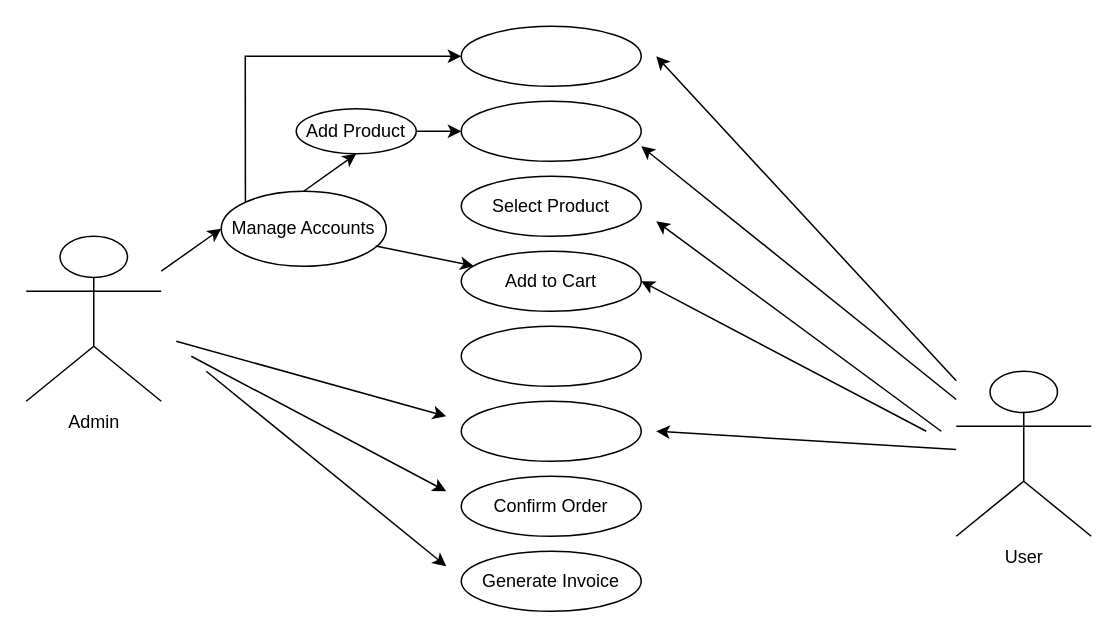
Image size: 1118x638. Some labels were removed from this diagram. Each missing label, with the centre of its shape:
Browser Product: point (550, 130)
Login / Logout: point (550, 55)
Process Payment: point (550, 430)
View Product: point (550, 355)
